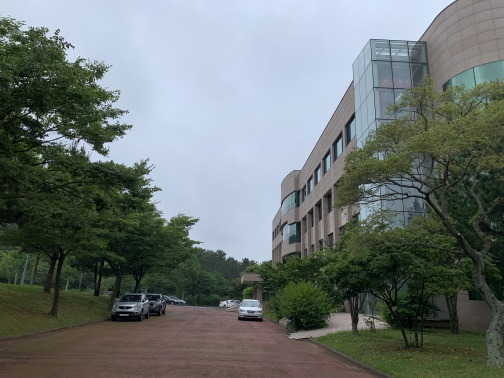Joint Experimental Labs: (264, 27, 446, 261)
